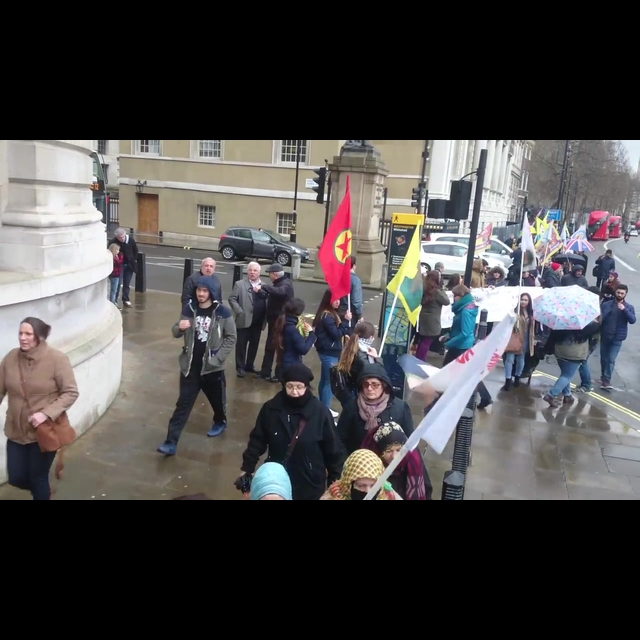PKK: (331, 226, 357, 267)
